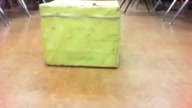cube: (39, 1, 120, 69)
